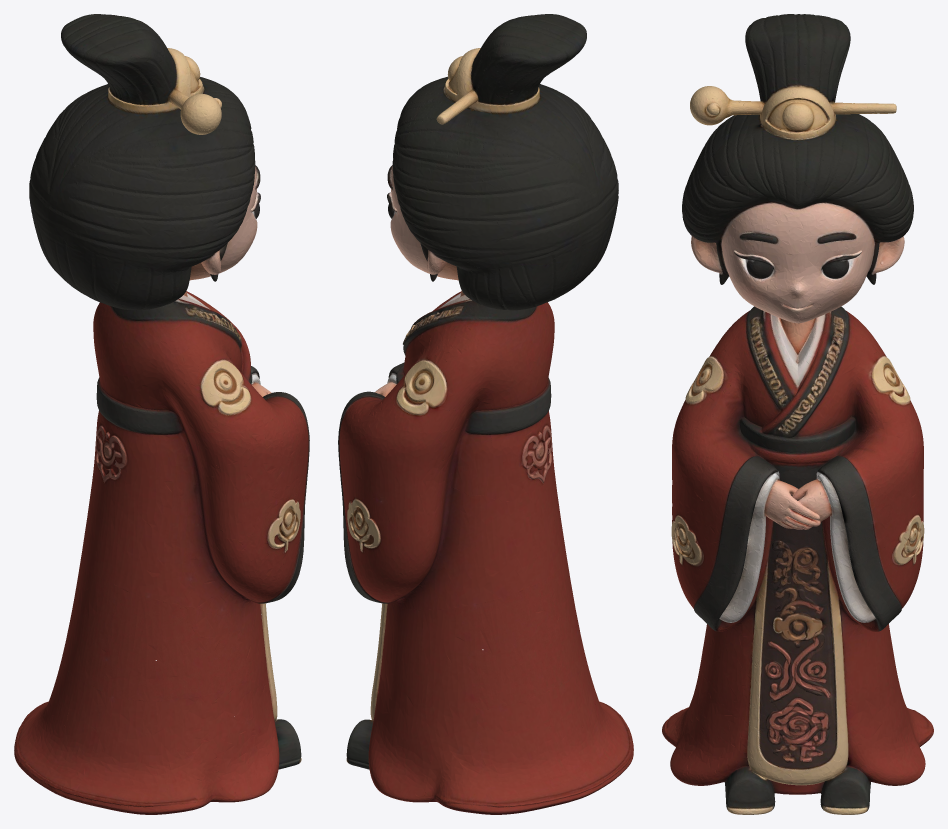
The picture shows the model from 3 angles, left to right: view 1: azimuth 30°, elevation 25°; view 2: azimuth 150°, elevation 25°; view 3: azimuth 270°, elevation 25°; orthographic projection. The views are drawn at different scales.
Visible parts, largest first — view 1: tripo_node_2d0c8e67-95bb-416c-bb7f-877204d0a052; view 2: tripo_node_2d0c8e67-95bb-416c-bb7f-877204d0a052; view 3: tripo_node_2d0c8e67-95bb-416c-bb7f-877204d0a052.
Boxes of the visible parts, left/top/right/bottom form: tripo_node_2d0c8e67-95bb-416c-bb7f-877204d0a052: left=14, top=14, right=309, bottom=814; tripo_node_2d0c8e67-95bb-416c-bb7f-877204d0a052: left=338, top=14, right=633, bottom=814; tripo_node_2d0c8e67-95bb-416c-bb7f-877204d0a052: left=662, top=14, right=933, bottom=814.
Size of the model in its own units: 0.3498 by 1 by 0.3422.
Materials: 1 (1 with a texture image).
